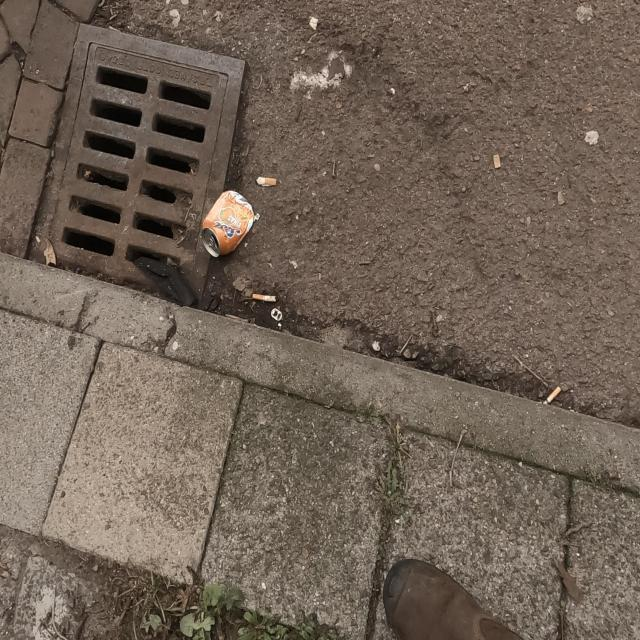Can-Metal: (198, 194, 255, 259)
